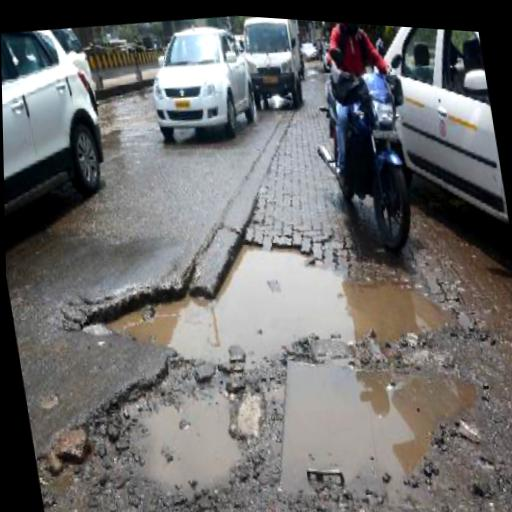pothole: (59, 189, 455, 393), (255, 323, 496, 512), (97, 345, 259, 509)
